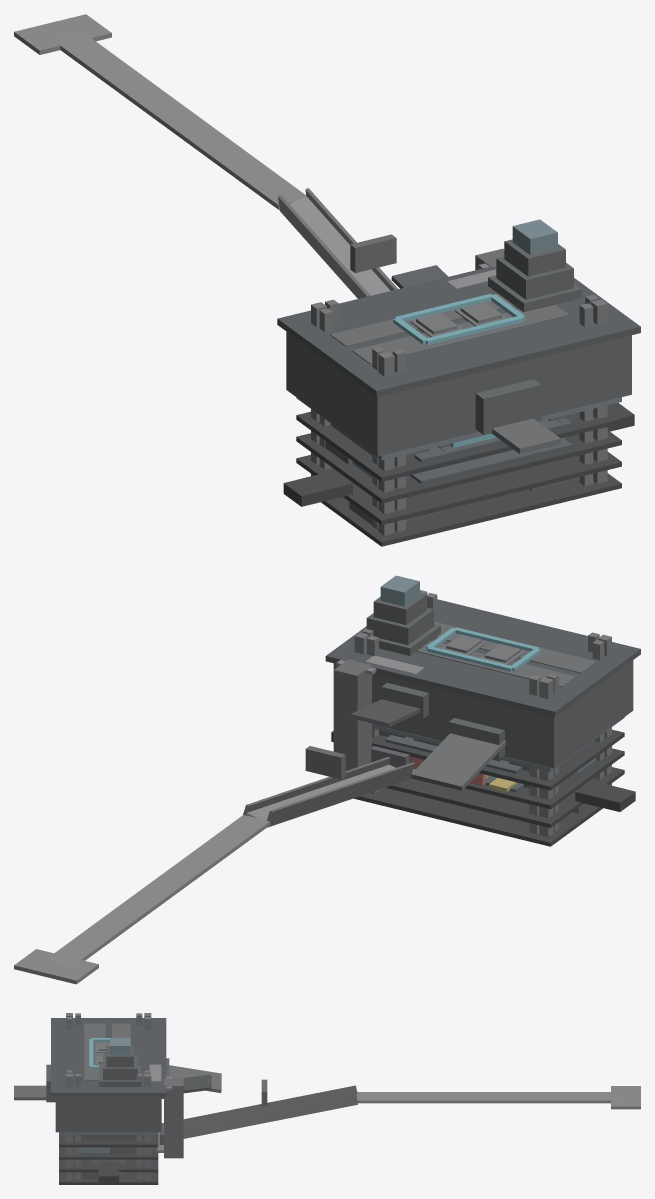
File: PRIM3_Site0_Master_Facility_v04.glb
The picture shows the model from 3 angles, top to bottom: view 1: azimuth 30°, elevation 25°; view 2: azimuth 150°, elevation 25°; view 3: azimuth 270°, elevation 25°; orthographic projection. The views are drawn at different scales.
Parts seen in each view (by area): view 1: SHELL_MAIN_RECTANGLE, L3_FLIGHT_DECK, PRIME_OFFSITE_SURFACE_ESCAPE_STRIP, B4_DEEP_TRANSIT_LOGISTICS_FLOOR, B5_GLOBAL_COORDINATION_RESILIENCE_FLOOR, B3_PRIME_COMMAND_SUSTAINMENT_FLOOR, B2_INDUSTRIAL_PRODUCTION_FLOOR, NORTH_FRONT_FORMAL_ENTRY, L3_LAUNCH_TAKEOFF_RUN, PRIME_OFFSITE_MARSHALLING_APRON, PRIME_DIRECT_SURFACE_ESCAPE_RAMP, L4_EXECUTIVE_FLIGHT_CONTROL_BASE (+18 smaller); view 2: L3_FLIGHT_DECK, SHELL_MAIN_RECTANGLE, PRIME_OFFSITE_SURFACE_ESCAPE_STRIP, B5_GLOBAL_COORDINATION_RESILIENCE_FLOOR, P1_PRIME_EXTERNAL_HEAVY_LIFT_SHAFT, B4_DEEP_TRANSIT_LOGISTICS_FLOOR, SOUTH_LOWER_HEAVY_DEPLOYMENT_RAMP, PRIME_ESCAPE_RAMP_WALL_W, B2_INDUSTRIAL_PRODUCTION_FLOOR, B3_PRIME_COMMAND_SUSTAINMENT_FLOOR, PRIME_OFFSITE_MARSHALLING_APRON, L4_EXECUTIVE_FLIGHT_CONTROL_BASE (+17 smaller); view 3: L3_FLIGHT_DECK, SHELL_MAIN_RECTANGLE, PRIME_OFFSITE_SURFACE_ESCAPE_STRIP, PRIME_ESCAPE_RAMP_WALL_E, P1_PRIME_EXTERNAL_HEAVY_LIFT_SHAFT, PRIME_ESCAPE_RAMP_WALL_W, B4_DEEP_TRANSIT_LOGISTICS_FLOOR, B2_INDUSTRIAL_PRODUCTION_FLOOR, L3_LAUNCH_TAKEOFF_RUN, B5_GLOBAL_COORDINATION_RESILIENCE_FLOOR, B3_PRIME_COMMAND_SUSTAINMENT_FLOOR, PRIME_OFFSITE_MARSHALLING_APRON (+15 smaller).
Boxes of the visible parts, x1,y1,x2,y2 form: SHELL_MAIN_RECTANGLE: (286,331,631,456); L3_FLIGHT_DECK: (277,266,640,397); PRIME_OFFSITE_SURFACE_ESCAPE_STRIP: (51,31,306,209); B4_DEEP_TRANSIT_LOGISTICS_FLOOR: (296,452,621,525); B5_GLOBAL_COORDINATION_RESILIENCE_FLOOR: (306,473,621,546); B3_PRIME_COMMAND_SUSTAINMENT_FLOOR: (296,430,621,503); B2_INDUSTRIAL_PRODUCTION_FLOOR: (296,408,621,481); NORTH_FRONT_FORMAL_ENTRY: (475,379,541,434); L3_LAUNCH_TAKEOFF_RUN: (352,304,569,364); PRIME_OFFSITE_MARSHALLING_APRON: (14,14,111,54); PRIME_DIRECT_SURFACE_ESCAPE_RAMP: (290,196,390,295); L4_EXECUTIVE_FLIGHT_CONTROL_BASE: (496,256,573,299); L3_FLIGHT_DECK: (325,599,640,717); SHELL_MAIN_RECTANGLE: (333,660,633,768); PRIME_OFFSITE_SURFACE_ESCAPE_STRIP: (46,815,270,965); B5_GLOBAL_COORDINATION_RESILIENCE_FLOOR: (354,787,602,846); P1_PRIME_EXTERNAL_HEAVY_LIFT_SHAFT: (333,659,371,770); B4_DEEP_TRANSIT_LOGISTICS_FLOOR: (386,767,624,827); SOUTH_LOWER_HEAVY_DEPLOYMENT_RAMP: (411,733,506,790); PRIME_ESCAPE_RAMP_WALL_W: (267,762,414,826); B2_INDUSTRIAL_PRODUCTION_FLOOR: (372,729,624,790); B3_PRIME_COMMAND_SUSTAINMENT_FLOOR: (465,748,624,809); PRIME_OFFSITE_MARSHALLING_APRON: (14,949,98,984); L4_EXECUTIVE_FLIGHT_CONTROL_BASE: (366,607,433,645); L3_FLIGHT_DECK: (51,1018,166,1096); SHELL_MAIN_RECTANGLE: (55,1096,161,1132); PRIME_OFFSITE_SURFACE_ESCAPE_STRIP: (357,1092,622,1103); PRIME_ESCAPE_RAMP_WALL_E: (183,1093,357,1138); P1_PRIME_EXTERNAL_HEAVY_LIFT_SHAFT: (164,1078,183,1158); PRIME_ESCAPE_RAMP_WALL_W: (183,1085,357,1126); B4_DEEP_TRANSIT_LOGISTICS_FLOOR: (59,1159,158,1172); B2_INDUSTRIAL_PRODUCTION_FLOOR: (59,1134,158,1147); L3_LAUNCH_TAKEOFF_RUN: (84,1023,105,1080); B5_GLOBAL_COORDINATION_RESILIENCE_FLOOR: (59,1172,158,1184); B3_PRIME_COMMAND_SUSTAINMENT_FLOOR: (59,1147,158,1159); PRIME_OFFSITE_MARSHALLING_APRON: (611,1086,640,1109).
Size of the model in its own units: 1.94 by 1.27 by 5.43.
